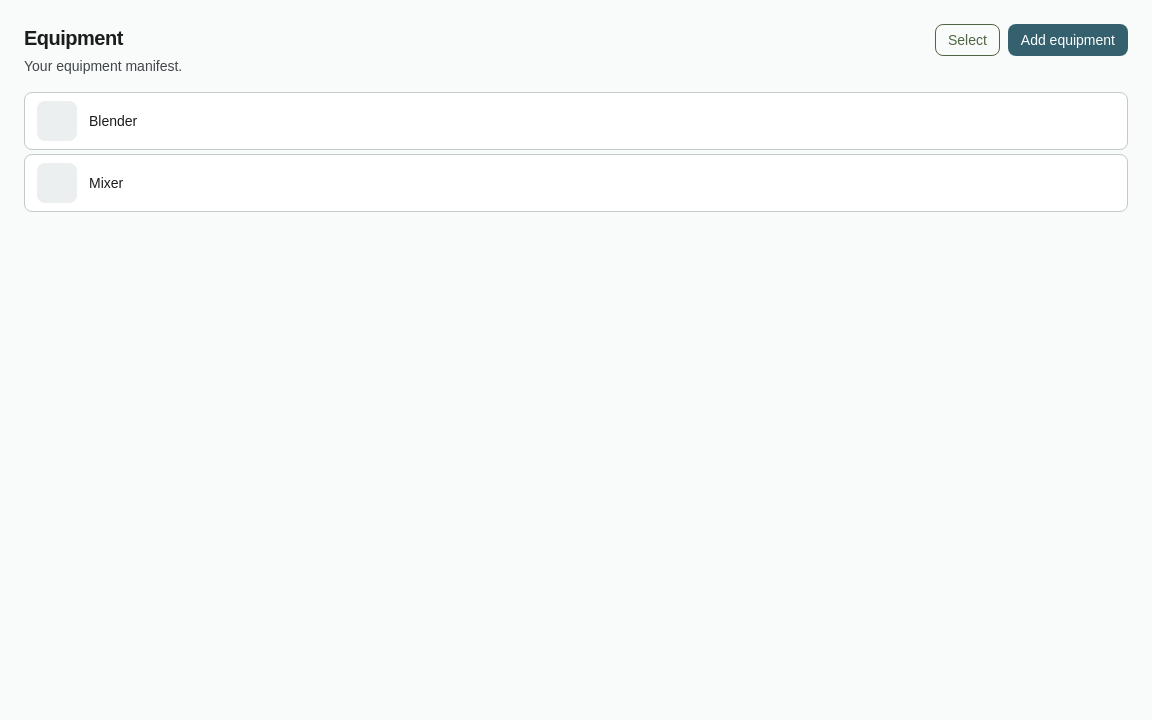
Test: EquipmentListPage › select-all checkbox selects all items and shows count
Step 1. Click the button "Select" → click(967, 40), box x1=935 y1=24 x2=1000 y2=56
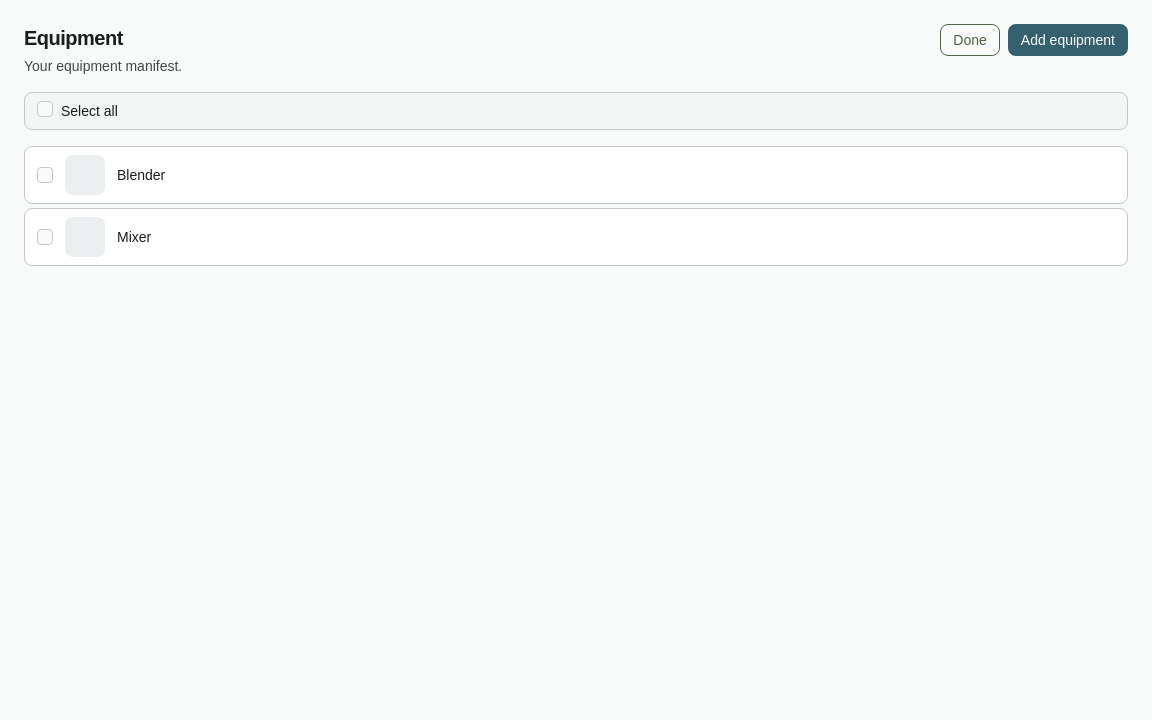
Step 2. Click the checkbox named "select all" next to "Select all" → click(45, 109), box x1=37 y1=101 x2=53 y2=117
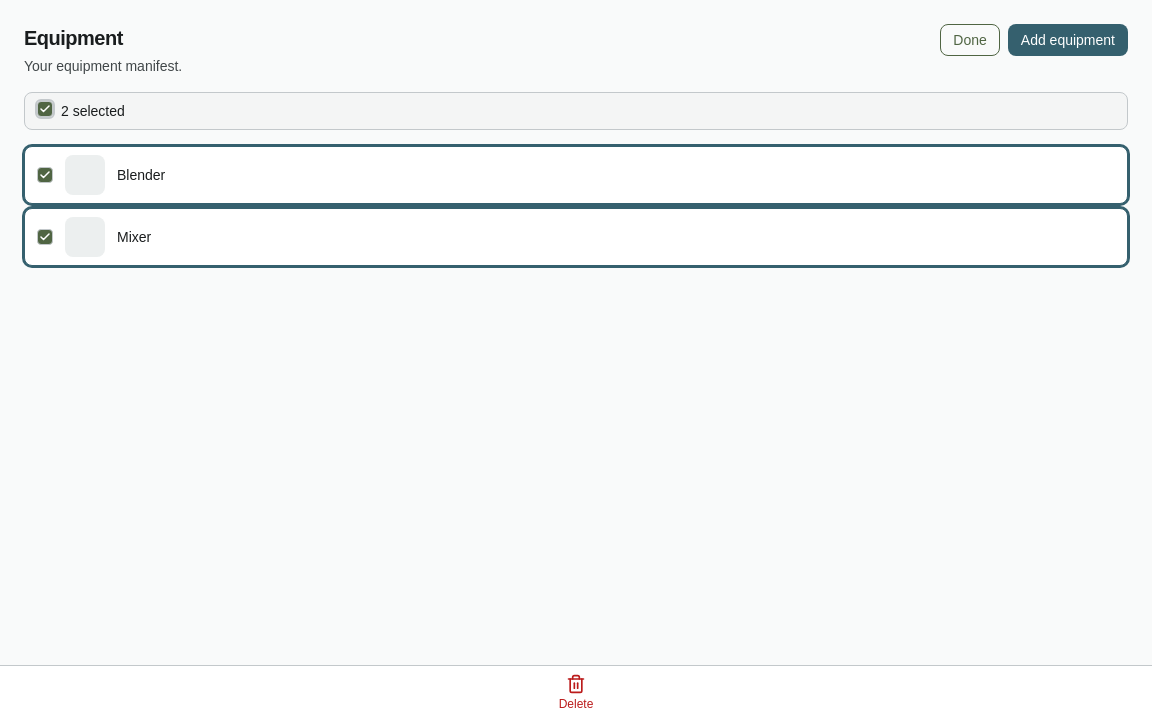
Now the text "2 selected" is shown, box x1=61 y1=101 x2=125 y2=121
